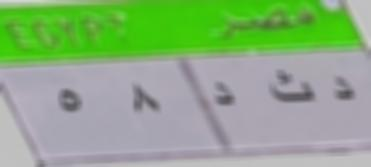5: (51, 86, 91, 117)
8: (126, 78, 164, 118)
daal: (208, 78, 241, 111), (324, 73, 358, 105)
thaa: (268, 66, 315, 112)
